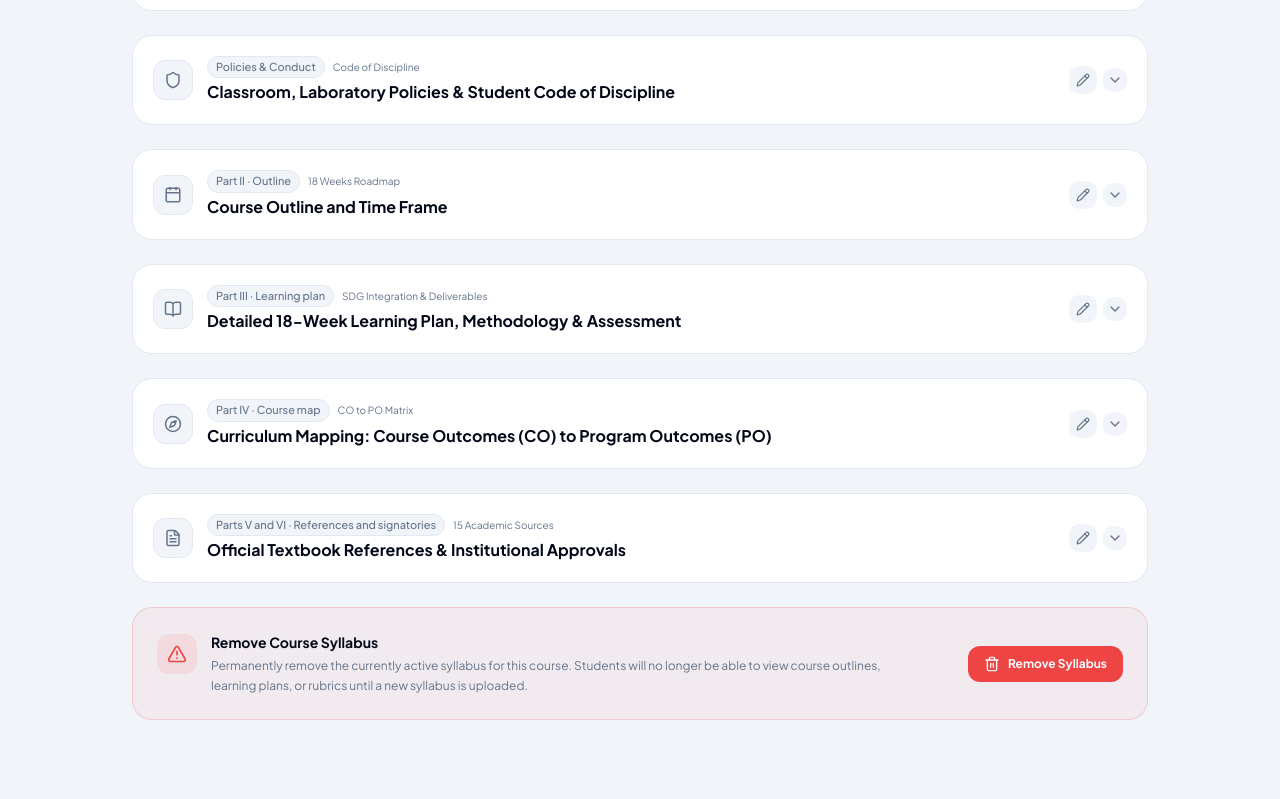
it: SyllabusView revision editing › saved references render with APA italics
(page scrolled)
Note: Expand the References & Signatures section (collapsed by default)
Click the heading "Official Textbook References & Institutional Approvals": coordinates (417, 550) [207,538,626,562]
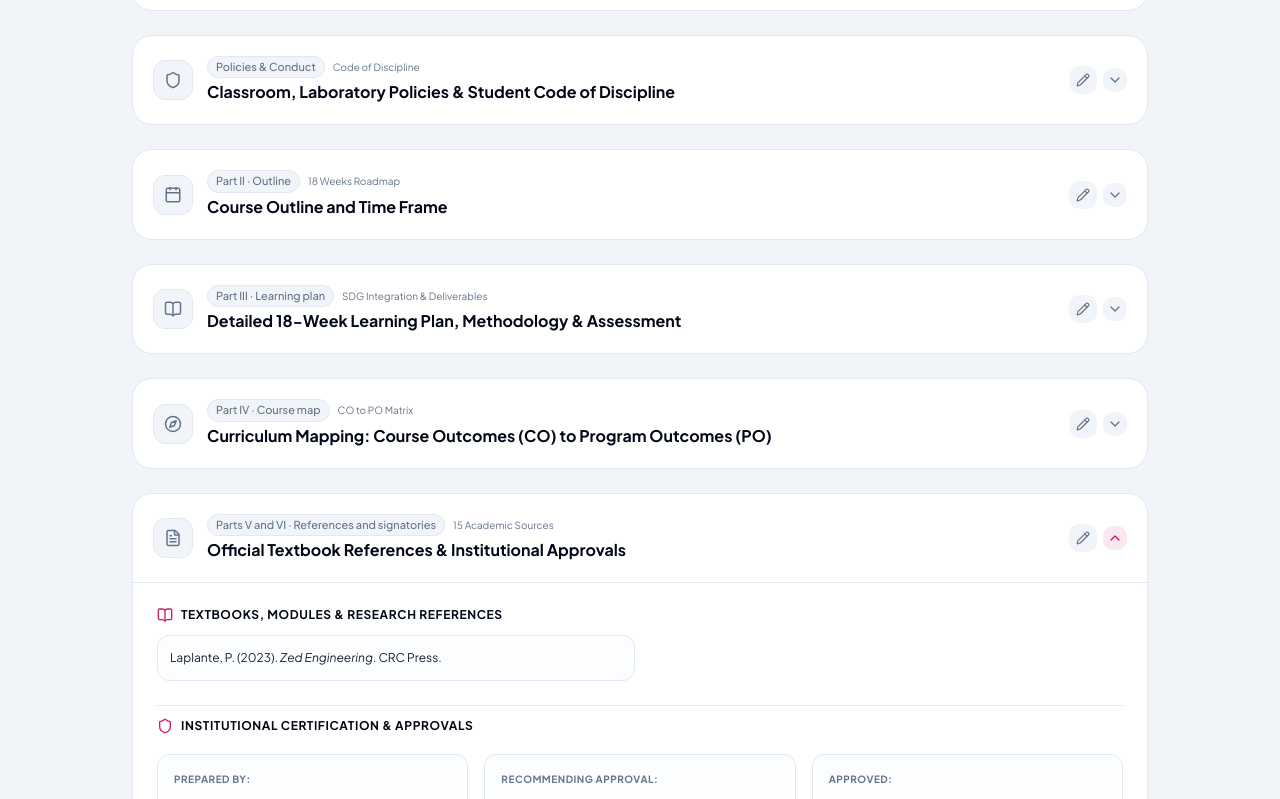
Expected: the text "Zed Engineering" is shown, [280,650,373,665]
